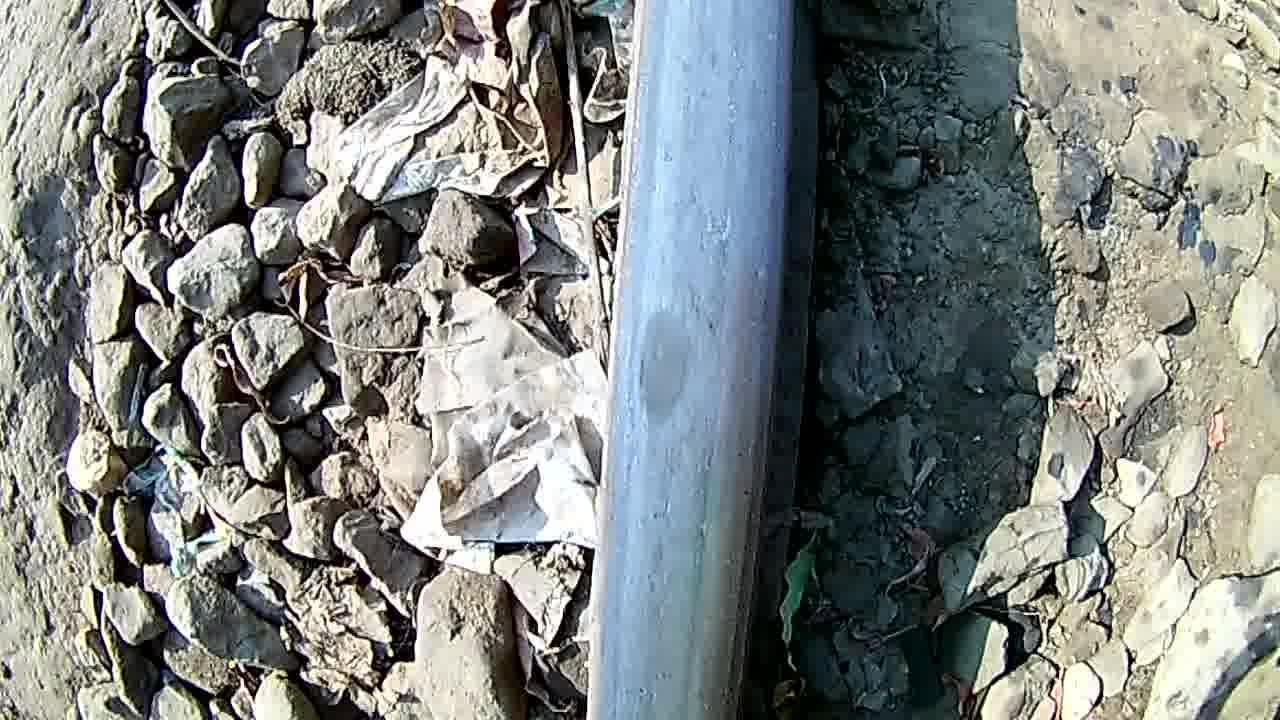bolt_missing: (599, 274, 730, 458)
